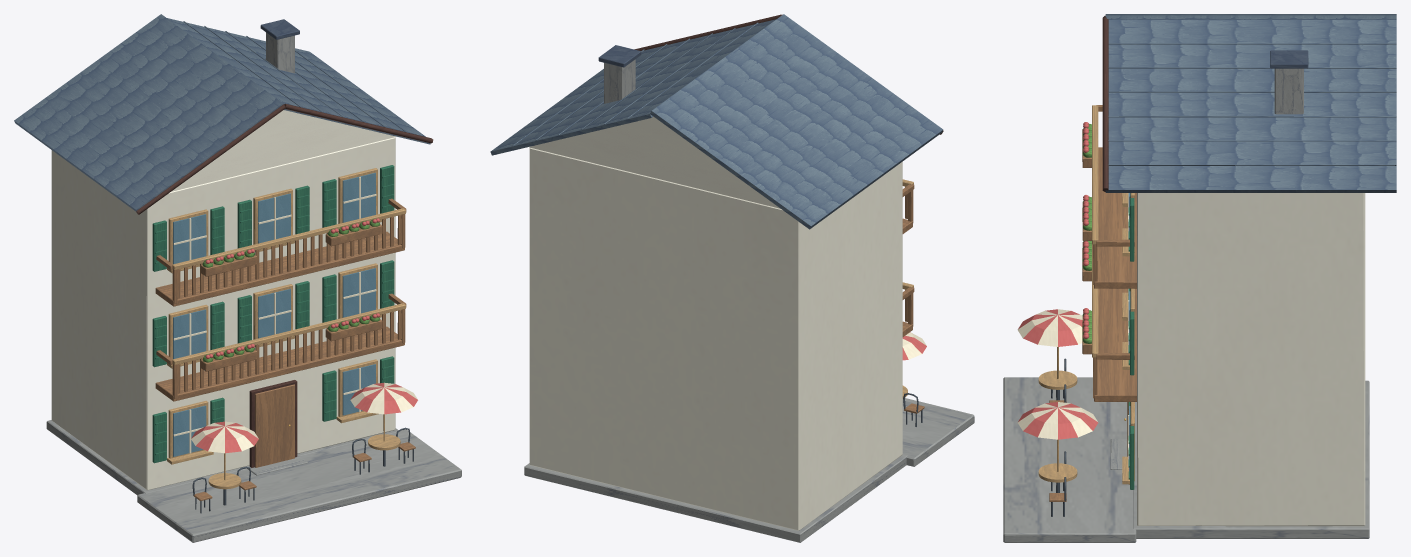
The model's file is inn.glb.
3 renders of one model, left to right at view 1: azimuth 30°, elevation 25°; view 2: azimuth 150°, elevation 25°; view 3: azimuth 270°, elevation 25°, orthographic. The views are drawn at different scales.
Visible parts, largest first — view 1: inn; view 2: inn; view 3: inn.
Part boxes in pixels (x1,y1,x2,y2): inn: (14,14,461,542); inn: (490,14,974,542); inn: (1003,14,1396,542).
Size of the model in its own units: 8.57 by 10.42 by 8.24.
3 materials, 3 textured.
